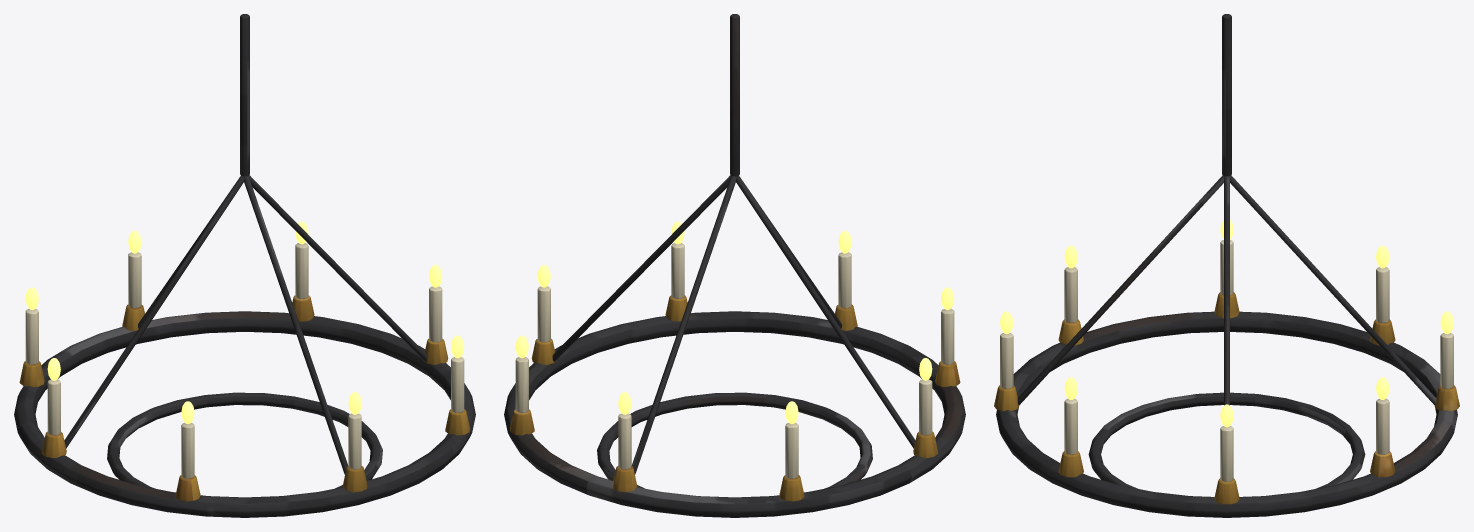
Rendered from prop_chandelier.glb.
3 renders of one model, left to right at view 1: azimuth 30°, elevation 25°; view 2: azimuth 150°, elevation 25°; view 3: azimuth 270°, elevation 25°, orthographic.
Visible parts, largest first — view 1: prop_chandelier; view 2: prop_chandelier; view 3: prop_chandelier.
Boxes of the visible parts, box(x1,y1,x2,y2) form: prop_chandelier: box(14, 14, 475, 517); prop_chandelier: box(504, 14, 965, 517); prop_chandelier: box(994, 14, 1459, 517).
Bounding box in the file's own units: 1.06 × 1.11 × 1.06.
Materials: 4 (4 with a texture image).
